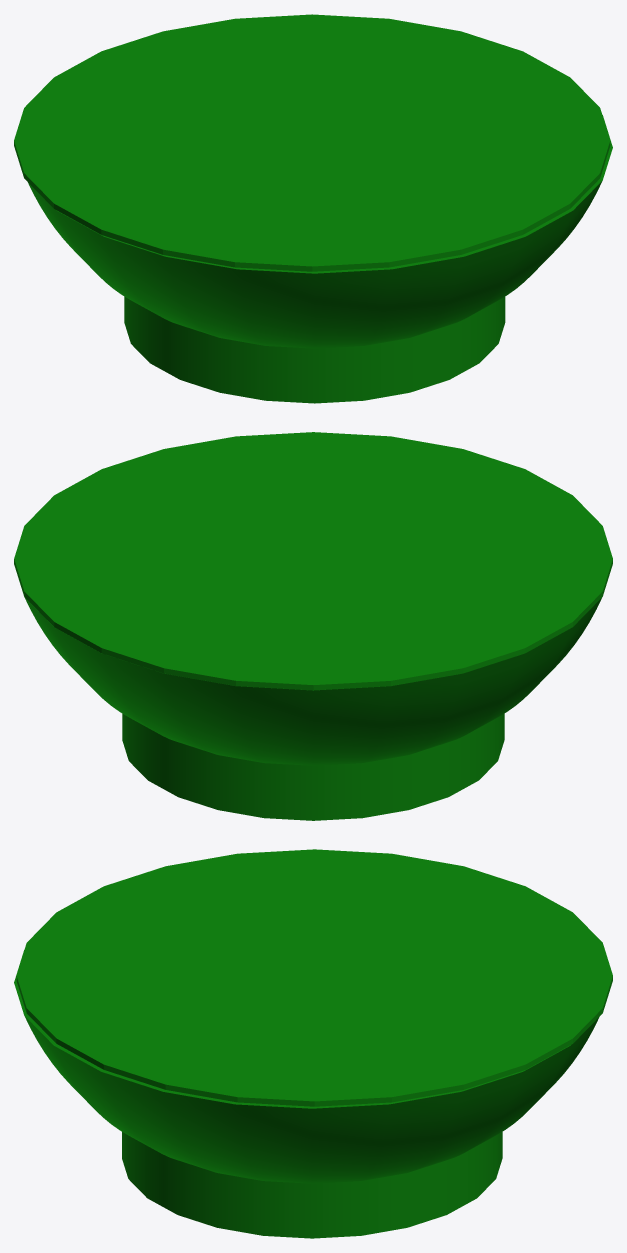
Rendered from mesa.obj.
3 renders of one model, top to bottom at view 1: azimuth 30°, elevation 25°; view 2: azimuth 150°, elevation 25°; view 3: azimuth 270°, elevation 25°, orthographic.
Parts seen in each view (by area): view 1: Group_002, Group_001; view 2: Group_002, Group_001; view 3: Group_002, Group_001.
Part boxes in pixels (x1,y1,x2,y2): Group_002: [14, 14, 610, 271]; Group_001: [28, 115, 612, 403]; Group_002: [14, 432, 612, 690]; Group_001: [14, 564, 601, 820]; Group_002: [16, 849, 612, 1106]; Group_001: [14, 950, 599, 1238].
Bounding box in the file's own units: 45.93 × 15.42 × 46.
